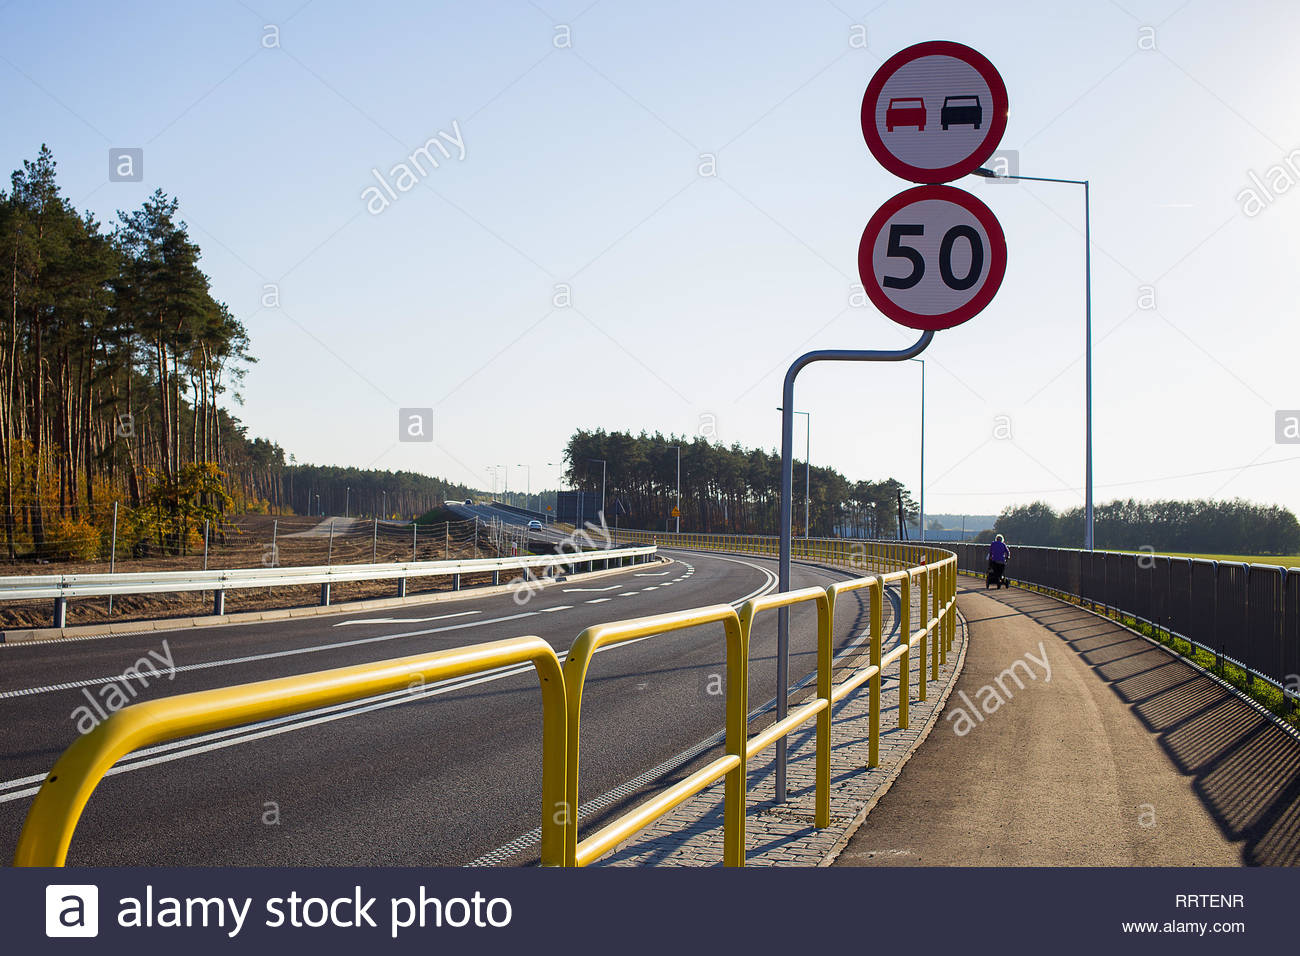speed_limit_50: (858, 187, 1012, 331)
